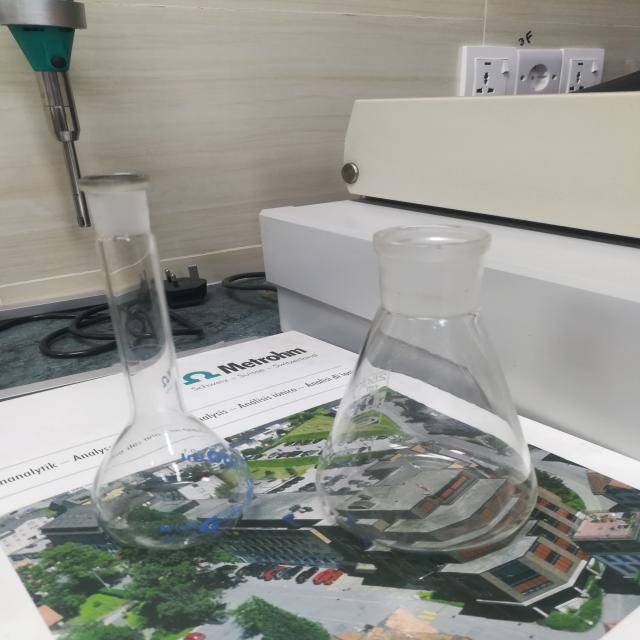Conical_Flask: (304, 210, 568, 564)
Volumetric_Flask: (52, 152, 287, 564)
